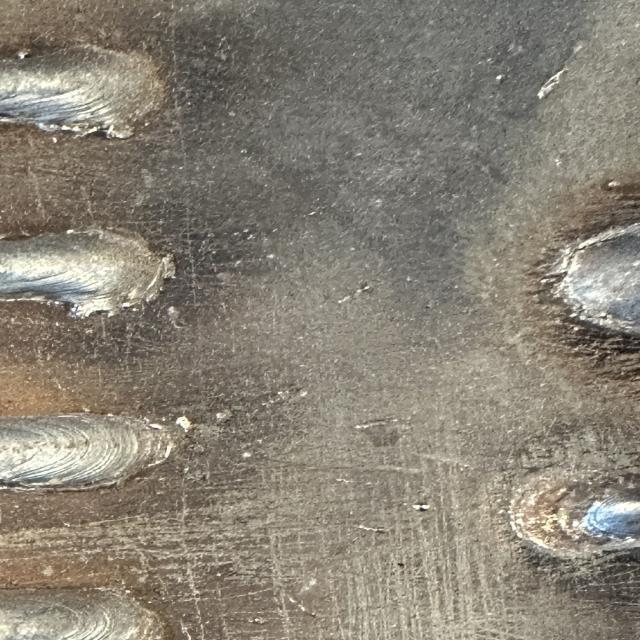Excess Reinforcement: (508, 468, 612, 558), (120, 50, 165, 134), (147, 415, 193, 468), (68, 296, 155, 318), (35, 122, 133, 138), (162, 254, 177, 278)
Spatters: (537, 68, 567, 99), (198, 228, 260, 242), (337, 285, 372, 304), (355, 525, 388, 533), (603, 180, 622, 191), (15, 49, 32, 60), (247, 616, 267, 625), (412, 502, 429, 511), (302, 609, 317, 618)
